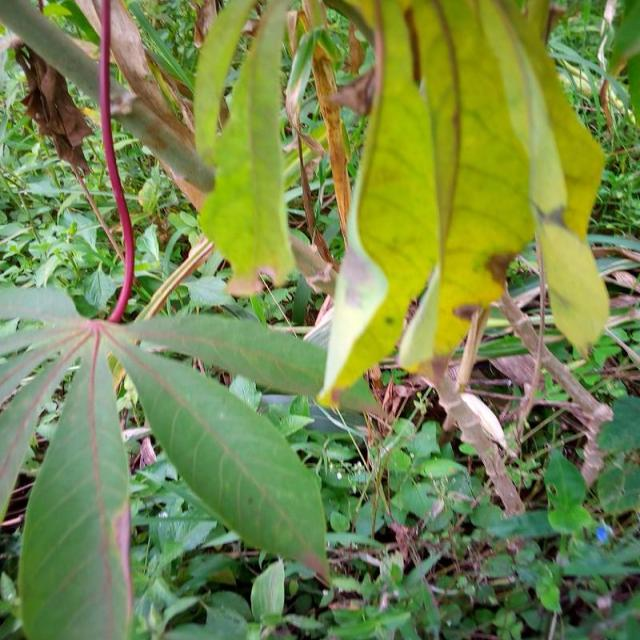cassava leaf: (316, 0, 610, 412), (109, 324, 333, 588), (18, 327, 134, 638), (196, 0, 297, 295)
